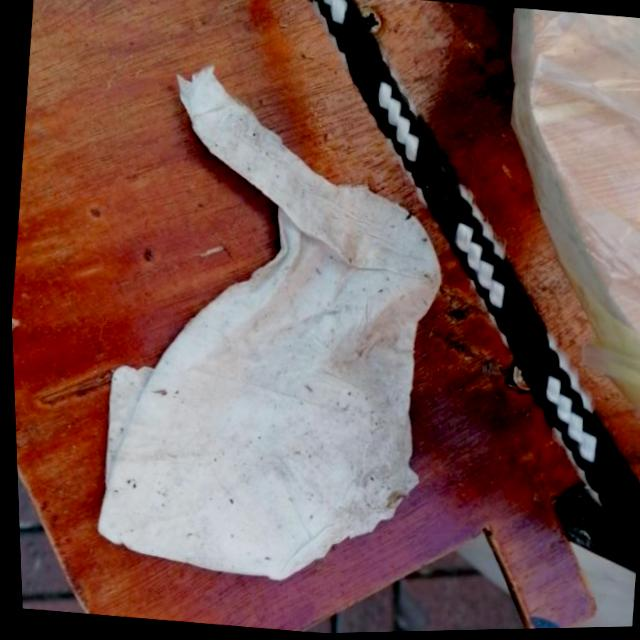Paper: (75, 51, 469, 603)
